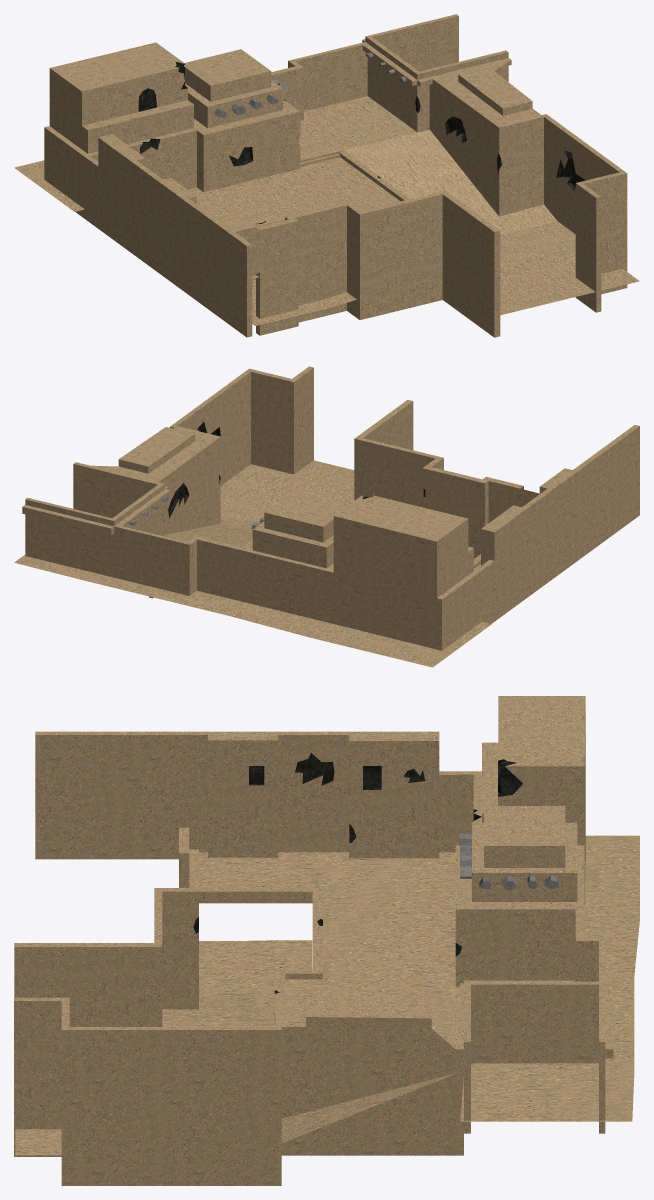
Rendered from escenario-3d-optimized.glb.
The picture shows the model from 3 angles, top to bottom: view 1: azimuth 30°, elevation 25°; view 2: azimuth 150°, elevation 25°; view 3: azimuth 270°, elevation 25°; orthographic projection. The views are drawn at different scales.
Parts seen in each view (by area): view 1: Paredes, Piso; view 2: Paredes, Piso; view 3: Paredes, Piso.
Part boxes in pixels (<box>): Paredes: <box>44,14,627,337</box>; Piso: <box>14,96,639,325</box>; Paredes: <box>22,366,639,650</box>; Piso: <box>14,460,491,667</box>; Paredes: <box>14,696,613,1185</box>; Piso: <box>15,835,639,1155</box>.
Size of the model in its own units: 12.45 by 4.77 by 11.52.
3 materials, 3 textured.
